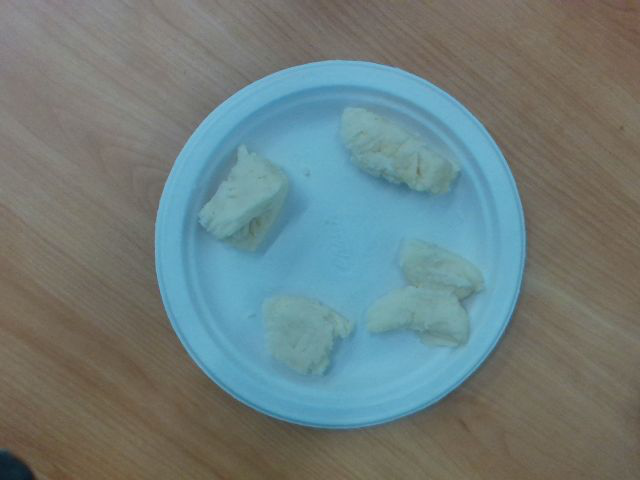mashed_potato: (367, 238, 482, 343), (342, 106, 462, 191), (201, 144, 289, 248), (264, 296, 354, 374)
